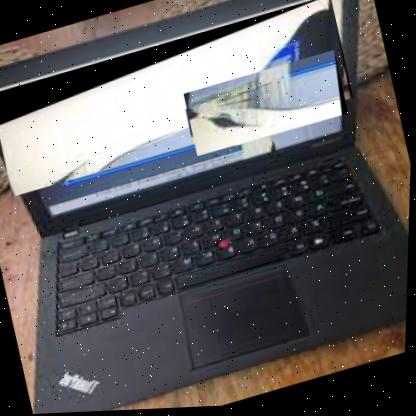crack: (182, 52, 351, 161)
fade: (0, 0, 358, 199)
